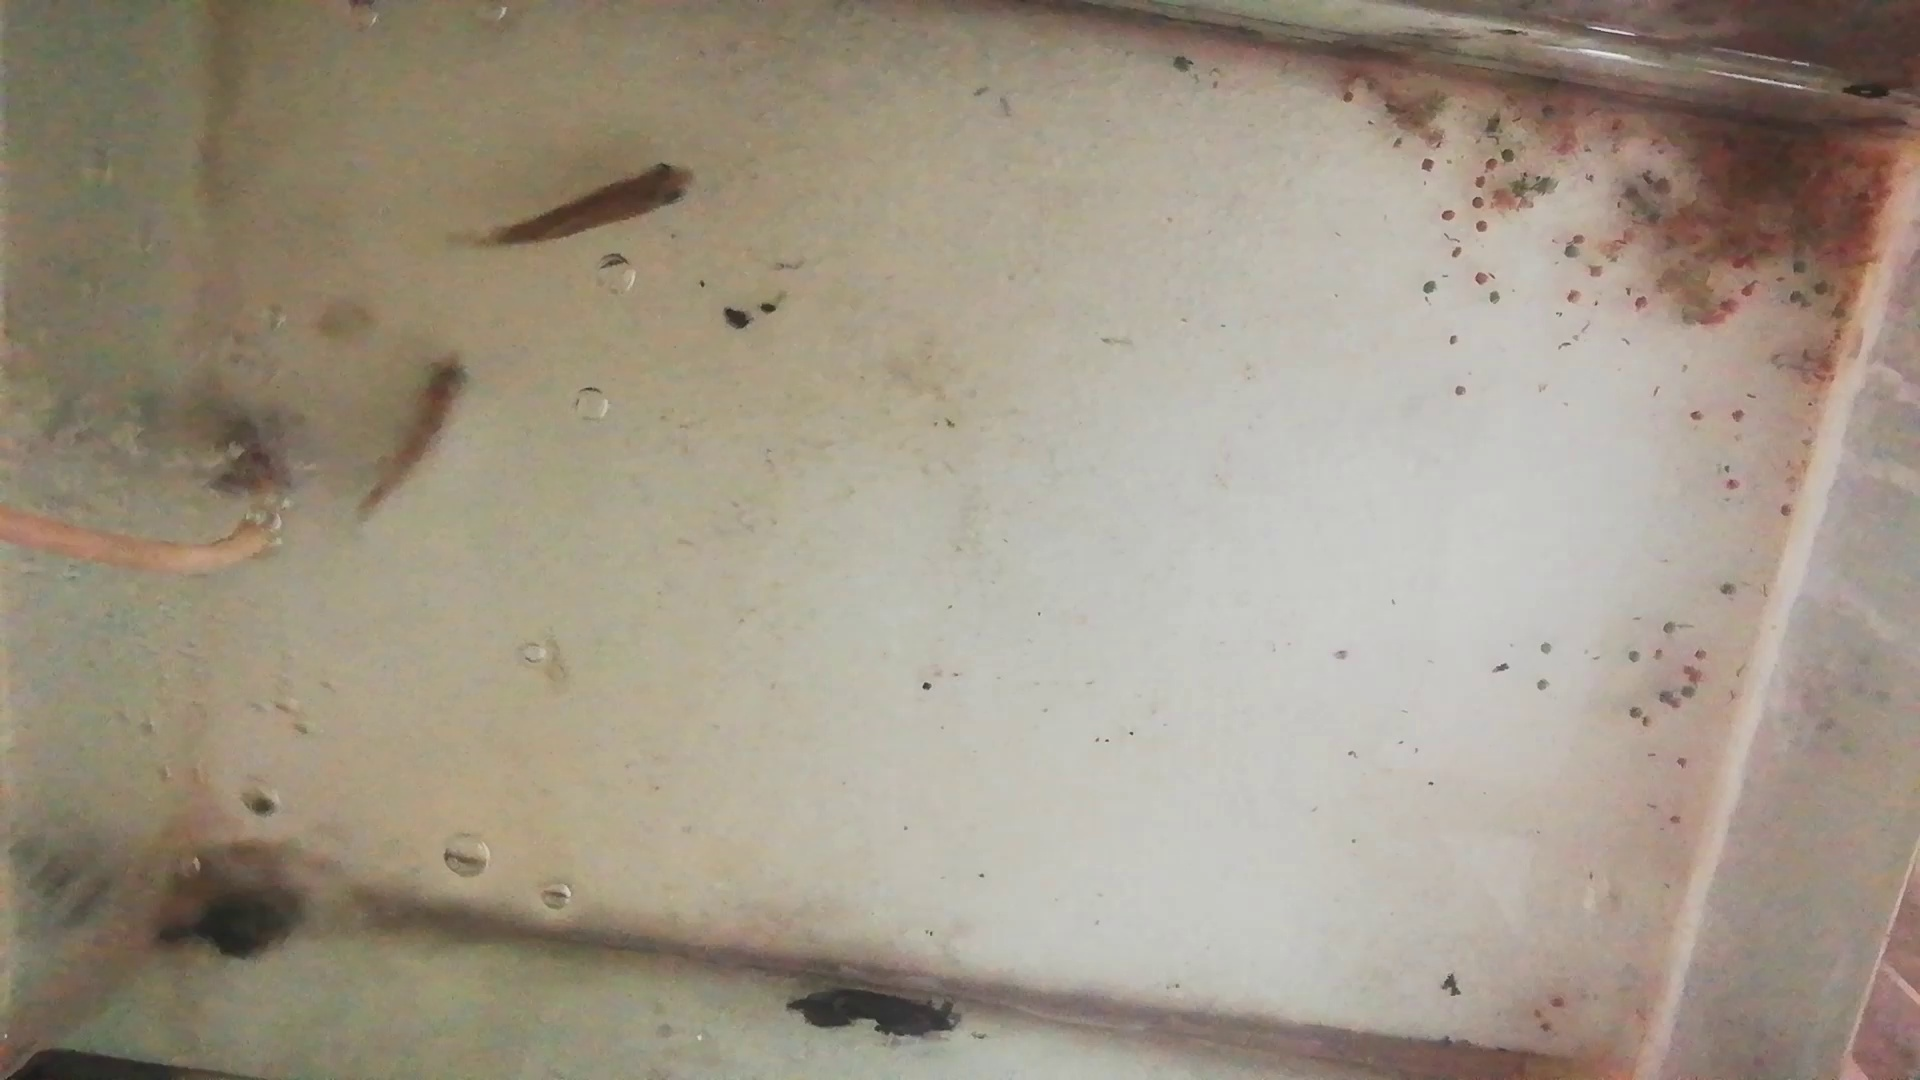fish: (356, 356, 473, 527), (472, 165, 704, 247)
